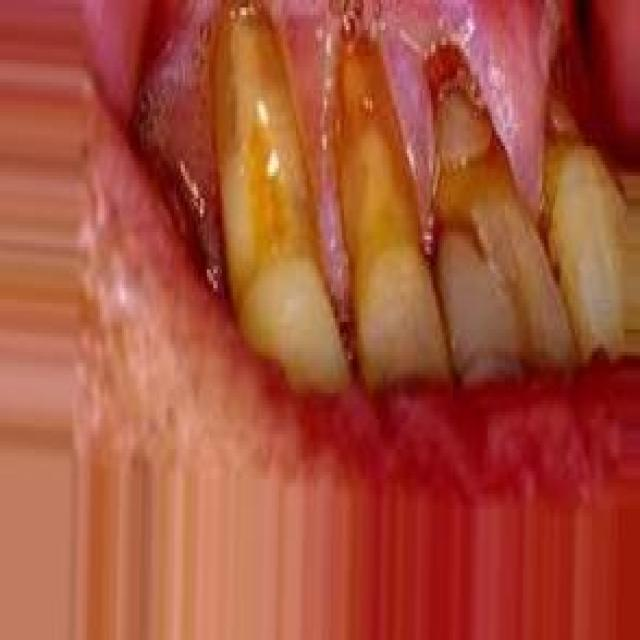caries: (420, 36, 514, 242), (533, 42, 593, 188)
